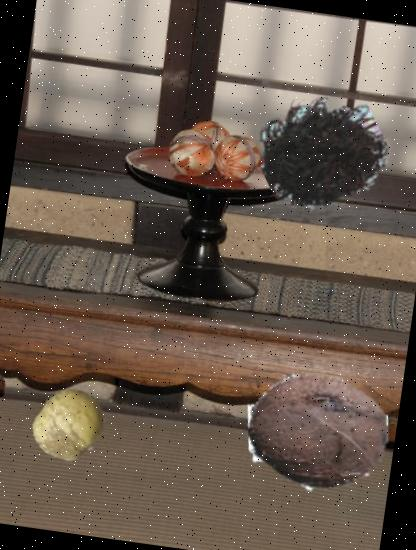Apple: (27, 383, 112, 467)
Cocos: (239, 354, 398, 513)
Rambutan: (250, 80, 392, 222)
